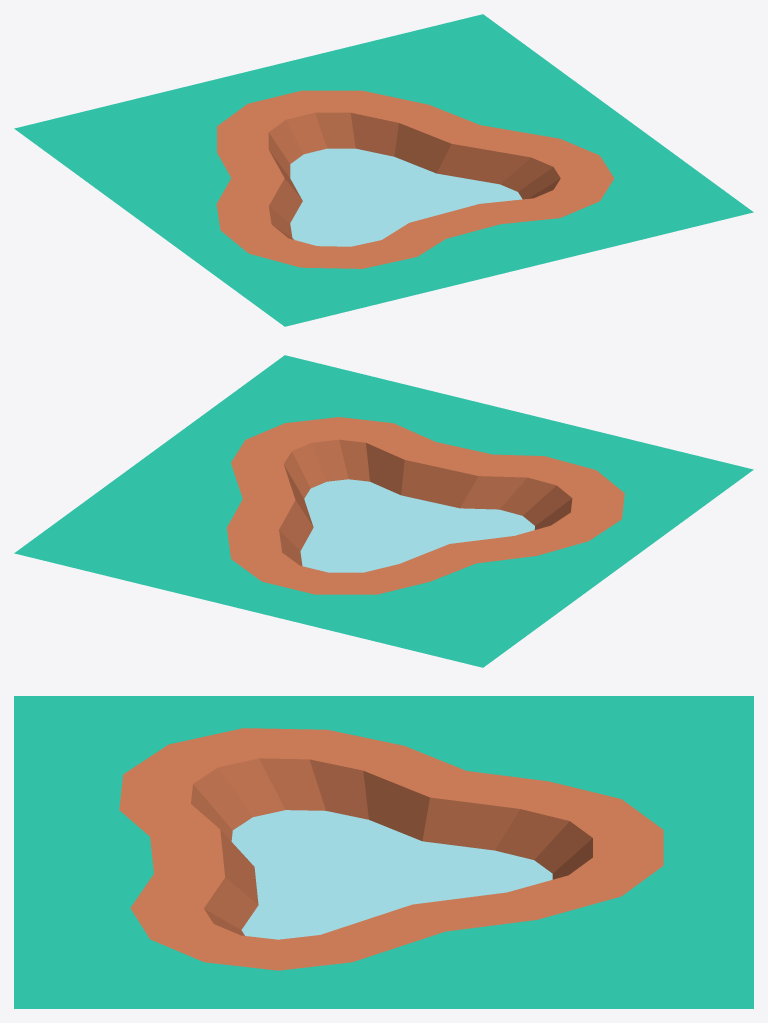
File: ground_riverTile.dae
3 renders of one model, top to bottom at view 1: azimuth 30°, elevation 25°; view 2: azimuth 150°, elevation 25°; view 3: azimuth 270°, elevation 25°, orthographic. The views are drawn at different scales.
Parts seen in each view (by area): view 1: ground_riverTile; view 2: ground_riverTile; view 3: ground_riverTile.
Part boxes in pixels (x1,y1,x2,y2): ground_riverTile: (14, 14, 753, 326); ground_riverTile: (14, 355, 753, 667); ground_riverTile: (14, 696, 753, 1008).
Size of the model in its own units: 1 by 0.05 by 1.
